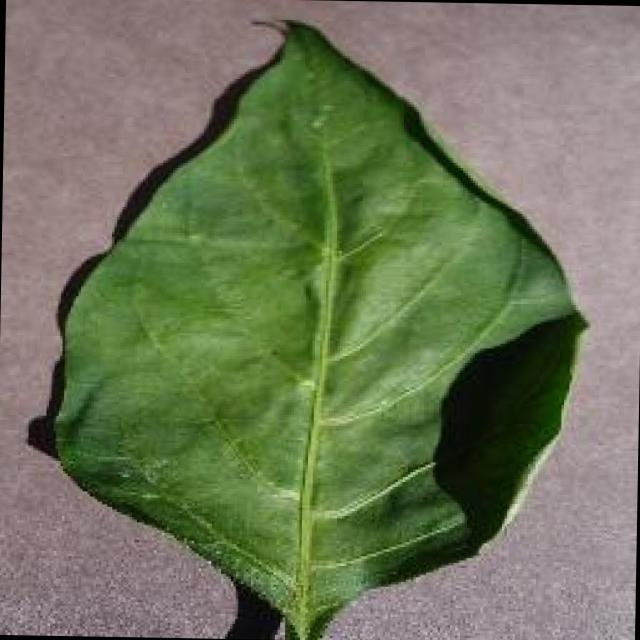Chilli_Healthy: (42, 10, 593, 640)
